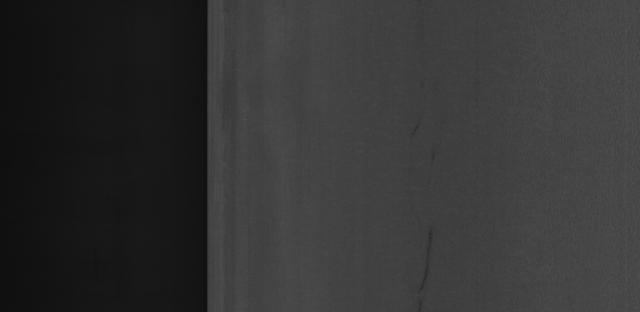inclusion: (402, 225, 452, 305)
